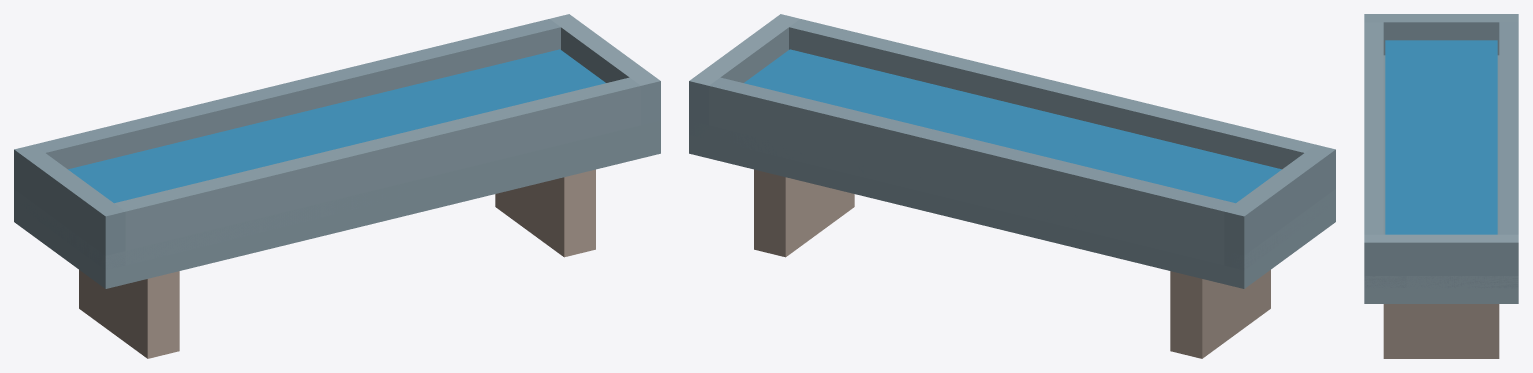
The model's file is A_WaterTrough.fbx.
3 views of the same model, side by side, from view 1: azimuth 30°, elevation 25°; view 2: azimuth 150°, elevation 25°; view 3: azimuth 270°, elevation 25° (orthographic). The views are drawn at different scales.
Visible parts, largest first — view 1: A_WaterTrough.008; view 2: A_WaterTrough.008; view 3: A_WaterTrough.008.
Boxes of the visible parts, box(x1,y1,x2,y2) form: A_WaterTrough.008: box(14, 14, 660, 358); A_WaterTrough.008: box(689, 14, 1335, 358); A_WaterTrough.008: box(1364, 14, 1518, 358).
Bounding box in the file's own units: 2.8 × 0.79 × 0.8.
